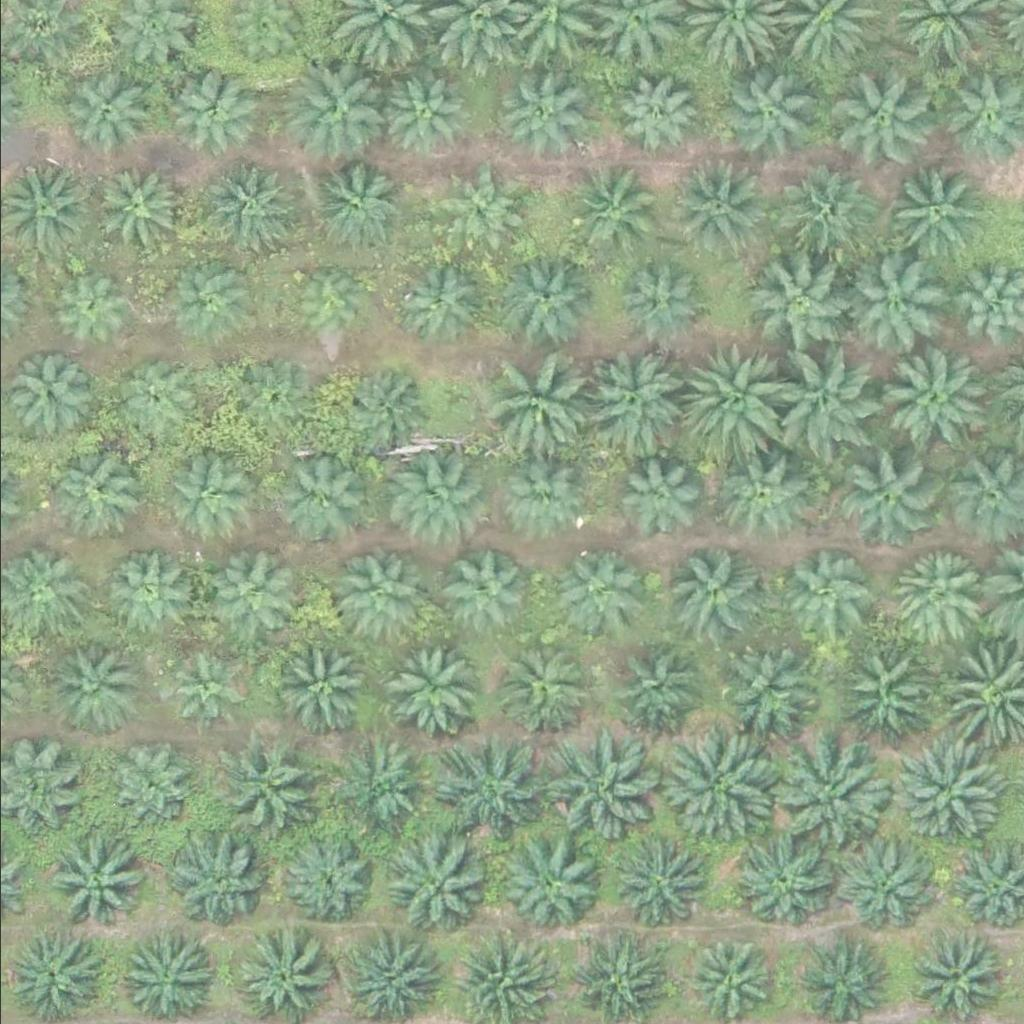Kelapa_Sawit: (823, 64, 937, 177), (660, 727, 773, 840), (776, 740, 889, 853), (890, 731, 1003, 844), (767, 345, 880, 458), (433, 728, 546, 840), (544, 734, 657, 846), (708, 628, 821, 740), (674, 342, 787, 454), (283, 64, 384, 164), (481, 357, 582, 457), (333, 364, 434, 464), (37, 437, 138, 537), (200, 542, 301, 642), (266, 637, 367, 737), (385, 639, 486, 739), (494, 635, 595, 735), (333, 734, 434, 834), (222, 737, 323, 837), (499, 831, 600, 931), (45, 837, 146, 937), (734, 831, 835, 931), (608, 829, 709, 929), (828, 649, 929, 749), (660, 541, 761, 641), (771, 547, 872, 647), (832, 447, 933, 547), (710, 444, 811, 544), (884, 346, 985, 446), (840, 253, 941, 353), (883, 164, 984, 264), (491, 247, 591, 347), (387, 254, 487, 354), (380, 447, 480, 547), (381, 836, 481, 936), (164, 827, 264, 927), (833, 837, 933, 937), (579, 348, 679, 448), (742, 258, 842, 358), (667, 157, 767, 257), (775, 164, 875, 264), (306, 163, 395, 251), (372, 73, 460, 161), (161, 65, 249, 153), (60, 69, 148, 157), (564, 166, 652, 254), (437, 166, 525, 254), (201, 163, 289, 251), (222, 359, 310, 447), (495, 449, 583, 537), (274, 450, 362, 538), (162, 446, 250, 534), (437, 547, 525, 635), (330, 547, 418, 635), (97, 544, 185, 632), (53, 646, 141, 734), (103, 741, 191, 829), (679, 934, 767, 1022), (612, 642, 700, 730), (889, 549, 977, 637), (611, 253, 699, 341), (159, 640, 248, 727), (493, 70, 581, 157), (87, 166, 175, 253), (45, 268, 133, 355), (168, 256, 256, 343), (105, 355, 193, 442), (282, 836, 370, 923), (548, 540, 636, 627), (616, 451, 704, 538), (721, 71, 809, 158), (613, 72, 701, 159), (286, 266, 362, 341)
